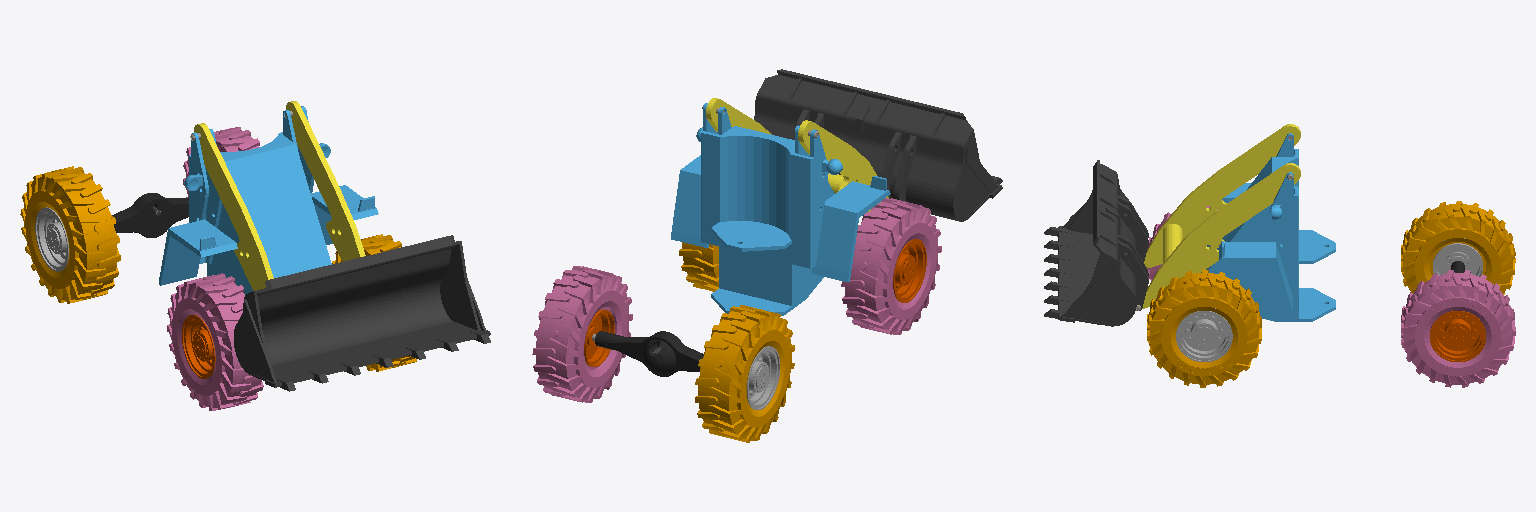
robot.urdf — robot_mov:
<?xml version="1.0"?>
<robot name="robot_mov">

    <gazebo>
        <plugin name="gazebo_ros_control" filename="libgazebo_ros_control.so">
            <robotNamespace>/robot_mov</robotNamespace>
            <robotSimType>gazebo_ros_control/DefaultRobotHWSim</robotSimType>
        </plugin>
    </gazebo>

    <link name="base_link">
        <visual>
            <origin xyz="0.0 0.0 0.0" rpy="0.0 0.0 0.0"/>
            <geometry>
                <box size="0.01 0.01 0.01"/>
            </geometry>
        </visual>
    </link>

    <joint name="base_joint" type="fixed">
        <origin xyz="0.0 0.5 0.0" rpy="0.0 0.0 0.0"/>
        <parent link="base_link"/>
        <child link="body_link"/>
    </joint>




<!--####Body####-->

    <link name="body_link">
         <inertial>
            <mass value="5.0"/>
            <inertia ixx="3.02083333333" ixy="0.0" ixz="0.0" iyy="3.02083333333" iyz="0.0" izz="5.20833333333"/>
        </inertial>
        <visual>
            <origin xyz="0.0 0.0 0.0" rpy="0.0 0.0 0.0"/>
            <geometry>
                <mesh filename="package://goldfields_world/models/Front_Loader/meshes/Body_yellow.dae" scale="40 40 40"/>
            </geometry>
        </visual>
        <collision>
            <origin xyz="0.0 0.0 0.0" rpy="0.0 0.0 0.0"/>
            <geometry>
                <box size="0.1 0.1 0.1"/>
            </geometry>
        </collision>
    </link>

<!--####Base_Wheels####-->

    <joint name="body_base_1_joint" type="fixed">
        <origin xyz="0.0 1.45 0.15" rpy="-1.5708 -3.14 0.0"/>
        <parent link="body_link"/>
        <child link="base_wheels_link_1"/>
    </joint>

    <link name="base_wheels_link_1" >
        <visual>
            <origin xyz="0.0 0.0 0.0" rpy="0.0 0.0 0.0"/>
            <geometry>
                <mesh filename="package://goldfields_world/models/Front_Loader/meshes/Support.dae" scale="40 40 40"/>
            </geometry>
        </visual>
    </link>

<!--####Tornillo_base_Wheel####-->

    <link name="Tornillo_base_wheel_1">
        <visual>
            <origin xyz="0.0 0.0 0" rpy="0.0 0.0 0.0"/>
            <geometry>
                <mesh filename="package://goldfields_world/models/Front_Loader/meshes/Tornillo_S.dae" scale="40 40 40"/>
            </geometry>
        </visual>
    </link>

    <joint name="base_Wheel_Tornillo_1" type="fixed">
        <origin xyz="0.0 0.1 -0.175" rpy="1.5708 0.0 0.0"/>
        <parent link="base_wheels_link_1"/>
        <child link="Tornillo_base_wheel_1"/>
    </joint>

<!--####Barra####-->

    <link name="Barra_1_link" >
         <inertial>
                <origin xyz="0.0 0.0 0.0" rpy="0.0 1.5708 0.0"/>
                <mass value="2"/>
                <inertia ixx="0.965" ixy="0.0" ixz="0.0" iyy="0.965" iyz="0.0" izz="0.01"/>
        </inertial>
        <visual>
            <origin xyz="-1.2 0.0 0" rpy="0.0 0.0 0.0"/>
            <geometry>
                <mesh filename="package://goldfields_world/models/Front_Loader/meshes/Barra.dae" scale="40 40 40"/>
            </geometry>
        </visual>
        <collision>
            <origin xyz="0.0 0.0 0.0" rpy="0.0 1.5708 0.0"/>
            <geometry>
            <cylinder radius="0.125" length="2.4"/>
            </geometry>
        </collision>
    </link>

    <joint name="base_Wheel_Barra_1" type="fixed">
        <origin xyz="0.0 0.0 0.0" rpy="1.5708 0.0 0.0"/>
        <parent link="base_wheels_link_1"/>
        <child link="Barra_1_link"/>
    </joint>

<!--####Ruedas de atras -Izquierda####-->

    <link name="left_back_wheel">
         <inertial>
                <origin xyz="0.0 0.0 0.0" rpy="0.0 1.5708 0.0"/>
                <mass value="0.5"/>
                <inertia ixx="0.0319791666667" ixy="0.0" ixz="0.0" iyy="0.0319791666667" iyz="0.0" izz="0.050625"/>
        </inertial>
        <visual>
            <origin xyz="0.0 0.0 0" rpy="0.0 0.0 0.0"/>
            <geometry>
                <mesh filename="package://goldfields_world/models/Front_Loader/meshes/Wheel_rin_yellow.dae" scale="40 40 40"/>
            </geometry>
        </visual>
        <collision>
            <origin xyz="0.0 0.0 0.0" rpy="0.0 1.5708 0.0"/>
            <geometry>
                <cylinder radius="0.425" length="0.5"/>
            </geometry>
        </collision>
    </link>

    <joint name="left_back_wheel_joint" type="continuous">
        <origin xyz="-1.25 0.0 0.0" rpy="0.0 3.1415922654 0.0"/>
        <parent link="Barra_1_link"/>
        <child link="left_back_wheel"/>
        <axis xyz="1.0 0.0 0.0"/>   
    </joint>

    <link name="WheelB_1_link" >
        <visual name="">
            <origin xyz="-0.05 0.0 0" rpy="0.0 0.0 0.0"/>
            <geometry>
                <mesh filename="package://goldfields_world/models/Front_Loader/meshes/Wheel_black.dae" scale="40 40 40"/>
            </geometry>
        </visual>
        <collision>
            <origin xyz="-0.05 0.0 0.0" rpy="0.0 1.5708 0.0"/>
            <geometry>
                <cylinder radius="0.85" length="0.5"/>
            </geometry>
        </collision>
    </link>

    <joint name="wheel_base_rin_B1" type="fixed">
        <origin xyz="0.0 0.0 0.0" rpy="0.0 0.0 0.0"/>
        <parent link="left_back_wheel"/>
        <child link="WheelB_1_link"/>
        <limit effort="100" velocity="100"/>
        <dynamics damping="0.0" friction="0.0"/>   
    </joint>

<!--####Ruedas de atras -Derecha####-->

<link name="right_back_wheel">
         <inertial>
                <origin xyz="0.0 0.0 0.0" rpy="0.0 1.5708 0.0"/>
                <mass value="0.5"/>
                <inertia ixx="0.0319791666667" ixy="0.0" ixz="0.0" iyy="0.0319791666667" iyz="0.0" izz="0.050625"/>
        </inertial>
        <visual>
            <origin xyz="0.0 0.0 0" rpy="0.0 0.0 3.1415922654"/>
            <geometry>
                <mesh filename="package://goldfields_world/models/Front_Loader/meshes/Wheel_rin_yellow.dae" scale="40 40 40"/>
            </geometry>
        </visual>
        <collision>
            <origin xyz="0.0 0.0 0.0" rpy="0.0 1.5708 0.0"/>
            <geometry>
                <cylinder radius="0.425" length="0.5"/>
            </geometry>
        </collision>
    </link>

    <joint name="right_back_wheel_joint" type="continuous">
        <origin xyz="1.25 0.0 0.0" rpy="0.0 0.0 3.141592"/>
        <parent link="Barra_1_link"/>
        <child link="right_back_wheel"/>
        <axis xyz="1.0 0.0 0.0"/>   
    </joint>

    <link name="WheelA_1_link" >
        <visual>
            <origin xyz="0.05 0.0 0" rpy="0.0 0.0 0.0"/>
            <geometry>
                <mesh filename="package://goldfields_world/models/Front_Loader/meshes/Wheel_black.dae" scale="40 40 40"/>
            </geometry>
        </visual>
        <collision>
            <origin xyz="0.05 0.0 0.0" rpy="0.0 1.5708 0.0"/>
            <geometry>
                <cylinder radius="0.85" length="0.5"/>
            </geometry>
        </collision>
    </link>

    <joint name="wheel_base_rin_A1" type="fixed">
        <origin xyz="0.0 0.0 0.0" rpy="0.0 0.0 0.0"/>
        <parent link="right_back_wheel"/>
        <child link="WheelA_1_link"/>
        <limit effort="100" velocity="100"/>
        <dynamics damping="0.0" friction="0.0"/>   
    </joint>

<!--BASE DEL CARGADOR FRONTAL-->

    <link name="Loader_base">
        <inertial>
            <origin xyz="0.0 0.0 0.0" rpy="0.0 0.0 0.0"/>
            <mass value="0.2"/>
            <inertia ixx="13.3333333333" ixy="0.0" ixz="0.0" iyy="13.3333333333" iyz="0.0" izz="13.3333333333"/>
        </inertial>
        <visual>
            <origin xyz="0.0 0.0 0.0" rpy="0.0 0.0 0.0"/>
            <geometry>
                <mesh filename="package://goldfields_world/models/Front_Loader/meshes/Helmet.dae" scale="40 40 40"/>
            </geometry>
        </visual>
        <collision>
            <origin xyz="0.0 0.0 0.0" rpy="0.0 0.0 0.0"/>
            <geometry>
                <box size="0.1 0.1 0.1"/>
            </geometry>
        </collision>
    </link>

    <joint name="helmet_joint" type="fixed">
        <origin xyz="0.0 -2.5 0.1" rpy="0.0 0.0 0.0"/>
        <parent link="body_link"/>
        <child link="Loader_base"/>
        <axis xyz="0.0 0.0 0.0"/>
    </joint>

<!---RUEDAS FRONTALES DEL CARGADOR-->

    <link name="base_wheels_link_2" >
        <visual>
            <origin xyz="0.0 0.0 0.0" rpy="0.0 0.0 0.0"/>
            <geometry>
                <mesh filename="package://goldfields_world/models/Front_Loader/meshes/Support.dae" scale="40 40 40"/>
            </geometry>
        </visual>
    </link>

    <joint name="body_base_2_joint" type="fixed">
        <origin xyz="0.0 -2.3 0.15" rpy="1.5708 -3.14 0.0"/>
        <parent link="body_link"/>
        <child link="base_wheels_link_2"/>
        <axis xyz="0.0 0.0 0.0"/>
    </joint>

    <link name="Tornillo_base_wheel_2" >
        <visual>
            <origin xyz="0.0 0.0 0" rpy="0.0 0.0 0.0"/>
            <geometry>
                <mesh filename="package://goldfields_world/models/Front_Loader/meshes/Tornillo_S.dae" scale="40 40 40"/>
            </geometry>
        </visual>
    </link>


    <joint name="base_Wheel_Tornillo_2" type="fixed">
        <origin xyz="0.0 0.1 -0.175" rpy="1.5708 0.0 0.0"/>
        <parent link="base_wheels_link_2"/>
        <child link="Tornillo_base_wheel_2"/>
    </joint>

    <link name="Barra_2_link" >
         <inertial>
                <origin xyz="0.0 0.0 0.0" rpy="0.0 1.5708 0.0"/>
                <mass value="2"/>
                <inertia ixx="0.965" ixy="0.0" ixz="0.0" iyy="0.965" iyz="0.0" izz="0.01"/>
        </inertial>
        <visual>
            <origin xyz="-1.2 0.0 0" rpy="0.0 0.0 0.0"/>
            <geometry>
                <mesh filename="package://goldfields_world/models/Front_Loader/meshes/Barra.dae" scale="40 40 40"/>
            </geometry>
        </visual>
        <collision>
            <origin xyz="0.0 0.0 0.0" rpy="0.0 1.5708 0.0"/>
            <geometry>
            <cylinder radius="0.125" length="2.4"/>
            </geometry>
        </collision>
    </link>

    <joint name="base_Wheel_Barra_2" type="fixed">
        <origin xyz="0.0 0.0 0.0" rpy="1.5708 0.0 0.0"/>
        <parent link="base_wheels_link_2"/>
        <child link="Barra_2_link"/>
    </joint>

<!--####Ruedas de adelante -Derecha####-->

    <link name="right_front_wheel">
         <inertial>
                <origin xyz="0.0 0.0 0.0" rpy="0.0 1.5708 0.0"/>
                <mass value="0.5"/>
                <inertia ixx="0.0319791666667" ixy="0.0" ixz="0.0" iyy="0.0319791666667" iyz="0.0" izz="0.050625"/>
        </inertial>
        <visual>
            <origin xyz="0.0 0.0 0" rpy="0.0 0.0 3.1415922654"/>
            <geometry>
                <mesh filename="package://goldfields_world/models/Front_Loader/meshes/Wheel_rin_yellow.dae" scale="40 40 40"/>
            </geometry>
        </visual>
        <collision>
            <origin xyz="0.0 0.0 0.0" rpy="0.0 1.5708 0.0"/>
            <geometry>
                <cylinder radius="0.425" length="0.5"/>
            </geometry>
        </collision>
    </link>

    <joint name="right_front_wheel_joint" type="continuous">
        <origin xyz="1.25 0.0 0.0" rpy="0.0 0.0 3.1415922654"/>
        <parent link="Barra_2_link"/>
        <child link="right_front_wheel"/>
        <axis xyz="1.0 0.0 0.0"/>   
    </joint>

    <link name="WheelA_2_link" >
        <visual name="">
            <origin xyz="0.05 0.0 0" rpy="0.0 0.0 0.0"/>
            <geometry>
                <mesh filename="package://goldfields_world/models/Front_Loader/meshes/Wheel_black.dae" scale="40 40 40"/>
            </geometry>
        </visual>
        <collision>
            <origin xyz="0.05 0.0 0.0" rpy="0.0 1.5708 0.0"/>
            <geometry>
                <cylinder radius="0.85" length="0.5"/>
            </geometry>
        </collision>
    </link>

    <joint name="wheel_base_rin_A2" type="fixed">
        <origin xyz="0.0 0.0 0.0" rpy="0.0 0.0 0.0"/>
        <parent link="right_front_wheel"/>
        <child link="WheelA_2_link"/>
        <limit effort="100" velocity="100"/>
        <dynamics damping="0.0" friction="0.0"/>   
    </joint>

<!--####Ruedas de adelante -Izquierda####-->

    <link name="left_front_wheel">
         <inertial>
                <origin xyz="0.0 0.0 0.0" rpy="0.0 1.5708 0.0"/>
                <mass value="0.5"/>
                <inertia ixx="0.0319791666667" ixy="0.0" ixz="0.0" iyy="0.0319791666667" iyz="0.0" izz="0.050625"/>
        </inertial>
        <visual>
            <origin xyz="0.0 0.0 0" rpy="0.0 0.0 0.0"/>
            <geometry>
                <mesh filename="package://goldfields_world/models/Front_Loader/meshes/Wheel_rin_yellow.dae" scale="40 40 40"/>
            </geometry>
        </visual>
        <collision>
            <origin xyz="0.0 0.0 0.0" rpy="0.0 1.5708 0.0"/>
            <geometry>
                <cylinder radius="0.425" length="0.5"/>
            </geometry>
        </collision>
    </link>

    <joint name="left_front_wheel_joint" type="continuous">
        <origin xyz="-1.25 0.0 0.0" rpy="0.0 3.1415922654 0.0"/>
        <parent link="Barra_2_link"/>
        <child link="left_front_wheel"/>
        <axis xyz="1.0 0.0 0.0"/>   
    </joint>

    <link name="WheelB_2_link" >
        <visual name="">
            <origin xyz="-0.05 0.0 0" rpy="0.0 0.0 0.0"/>
            <geometry>
                <mesh filename="package://goldfields_world/models/Front_Loader/meshes/Wheel_black.dae" scale="40 40 40"/>
            </geometry>
        </visual>
        <collision>
            <origin xyz="-0.05 0.0 0.0" rpy="0.0 1.5708 0.0"/>
            <geometry>
                <cylinder radius="0.85" length="0.5"/>
            </geometry>
        </collision>
    </link>

    <joint name="wheel_base_rin_B2" type="fixed">
        <origin xyz="0.0 0.0 0.0" rpy="0.0 0.0 0.0"/>
        <parent link="left_front_wheel"/>
        <child link="WheelB_2_link"/>
        <limit effort="100" velocity="100"/>
        <dynamics damping="0.0" friction="0.0"/>   
    </joint>

    <!--SOPORTE DEL CARGADOR-->
    
    <link name="Tornillo_Little_A1" >
        <visual name="">
            <origin xyz="0.0 0.0 0.0" rpy="0.0 0.0 0.0"/>
            <geometry>
                <mesh filename="package://goldfields_world/models/Front_Loader/meshes/Tornillo_Little.dae" scale="40 30 40"/>
            </geometry>
        </visual>
    </link>

    <joint name="tornilloA1_supp_joint" type="fixed">
        <origin xyz="-0.55 1.475 2.34" rpy="0.0 01.0 1.5708"/>
        <parent link="Loader_base"/>
        <child link="Tornillo_Little_A1"/>
    </joint>

    <link name="Tornillo_Little_A2" >
        <visual>
            <origin xyz="0.0 0.0 0.0" rpy="0.0 0.0 0.0"/>
            <geometry>
                <mesh filename="package://goldfields_world/models/Front_Loader/meshes/Tornillo_Little.dae" scale="40 30 40"/>
            </geometry>
        </visual>
    </link>

    <joint name="tornilloA2_supp_joint" type="fixed">
        <origin xyz="0.55 1.475 2.34" rpy="0.0 1.0 -1.5708"/>
        <parent link="Loader_base"/>
        <child link="Tornillo_Little_A2"/>
    </joint>

    <link name="pala_support_link" >
        <inertial>
            <origin xyz="0.0 1.5 0.0" rpy="0.0 0.0 0.0"/>
            <mass value="5.0"/>
            <inertia ixx="1.29270833333" ixy="0.0" ixz="0.0" iyy="0.667708333333" iyz="0.0" izz="1.92708333333"/>
        </inertial>
        <visual>
            <origin xyz="0.0 0.0 0.0" rpy="0.0 0.0 0.0"/>
            <geometry>
                <mesh filename="package://goldfields_world/models/Front_Loader/meshes/Support_Pala_Yellow.dae" scale="40 40 40"/>
            </geometry>
        </visual>
        <collision>
            <origin xyz="0.0 1.5 0.0" rpy="0.0 0.0 0.0"/>
            <geometry>
                <box size="1.25 1.75 0.2"/>
            </geometry>
        </collision>
    </link>

    <joint name="base_support_pala" type="revolute">
        <origin xyz="0.0 1.475 2.34" rpy="2.5 3.1415922654 0.0"/>
        <parent link="Loader_base"/>
        <child link="pala_support_link"/>
        <axis xyz="1.0 0.0 0.0"/>
        <limit lower="0.0" upper="1.5" effort="100.0" velocity="100"/>
    </joint>


    <link name="Tornillo_Little_B1" >
        <visual name="">
            <origin xyz="0.0 0.0 0.0" rpy="0.0 0.0 0.0"/>
            <geometry>
                <mesh filename="package://goldfields_world/models/Front_Loader/meshes/Tornillo_Little.dae" scale="40 30 40"/>
            </geometry>
        </visual>
    </link>

    <joint name="tornilloB1_supp_joint" type="fixed">
        <origin xyz="0.57 3.075 -0.35" rpy="0.0 0.0 -1.5708"/>
        <parent link="pala_support_link"/>
        <child link="Tornillo_Little_B1"/>
    </joint>

    <link name="Tornillo_Little_B2" >
        <visual name="">
            <origin xyz="0.0 0.0 0.0" rpy="0.0 0.0 0.0"/>
            <geometry>
                <mesh filename="package://goldfields_world/models/Front_Loader/meshes/Tornillo_Little.dae" scale="40 30 40"/>
            </geometry>
        </visual>
    </link>

    <joint name="tornilloB2_supp_joint" type="fixed">
        <origin xyz="-0.57 3.075 -0.35" rpy="0.0 0.0 1.5708"/>
        <parent link="pala_support_link"/>
        <child link="Tornillo_Little_B2"/>
    </joint>


    <link name="pala_link" >
        <inertial>
            <origin xyz="0.0 0.0 0.0" rpy="0.0 0.0 0.0"/>
            <mass value="0.1"/>
            <inertia ixx="0.0008125" ixy="0.0" ixz="0.0" iyy="0.0008125" iyz="0.0" izz="0.000125"/>
        </inertial>
        <visual>
            <origin xyz="0.0 0.05 1.11" rpy="0.0 0.0 3.1415922654"/>
            <geometry>
                <mesh filename="package://goldfields_world/models/Front_Loader/meshes/Pala.dae" scale="40 40 40"/>
            </geometry>
        </visual>
        <!--<collision>
            <origin xyz="0.0 0.0 1.25" rpy="0.0 0.0 0.0"/>
            <geometry>
                <box size="3.0 0.2 0.2"/>
            </geometry>
        </collision>-->
    </link>

    <joint name="pala_base_joint" type="revolute">
        <origin xyz="0.0 3.075 -0.35" rpy="-0.75 0.0 0.0"/>
        <parent link="pala_support_link"/>
        <child link="pala_link"/>
        <axis xyz="1.0 0.0 0.0"/>
        <limit lower="-2.58" upper="0.6" effort="100.0" velocity="100"/>
    </joint>







    <gazebo reference="body_link">
        <turnGravityOff>false</turnGravityOff>
    </gazebo>

    <gazebo reference="WheelB_1_link">
        <mu1 value="400.0"/>
        <mu2 value="200.0"/>
        <kp value="10000000.0"/>
        <kd value="1000.0"/>
        <material>Gazebo/Black</material>
    </gazebo>

    <gazebo reference="WheelB_2_link">
        <mu1 value="400.0"/>
        <mu2 value="200.0"/>
        <kp value="10000000.0"/>
        <kd value="1000.0"/>
        <material>Gazebo/Black</material>
    </gazebo>

    <gazebo reference="WheelA_1_link">
        <mu1 value="400.0"/>
        <mu2 value="200.0"/>
        <kp value="10000000.0"/>
        <kd value="1000.0"/>
        <material>Gazebo/Black</material>
    </gazebo>

    <gazebo reference="WheelA_2_link">
        <mu1 value="400.0"/>
        <mu2 value="200.0"/>
        <kp value="10000000.0"/>
        <kd value="1000.0"/>
        <material>Gazebo/Black</material>
    </gazebo>



    <transmission name="left_back_wheel_trans">
        <type>transmission_interface/SimpleTransmission</type>
        <actuator name="left_back_wheel_motor">
        <mechanicalReduction>1</mechanicalReduction>
        <hardwareInterface>VelocityJointInterface</hardwareInterface>
        </actuator>
        <joint name="left_back_wheel_joint">
            <hardwareInterface>hardware_interface/VelocityJointInterface</hardwareInterface>
        </joint>
    </transmission>

    <transmission name="right_front_wheel_trans">
        <type>transmission_interface/SimpleTransmission</type>
        <actuator name="right_front_wheel_motor">
            <mechanicalReduction>1</mechanicalReduction>
            <hardwareInterface>VelocityJointInterface</hardwareInterface>
        </actuator>
        <joint name="right_front_wheel_joint">
            <hardwareInterface>hardware_interface/VelocityJointInterface</hardwareInterface>
        </joint>
    </transmission>

    <transmission name="right_back_wheel_trans">
        <type>transmission_interface/SimpleTransmission</type>
        <actuator name="right_back_wheel_motor">
        <hardwareInterface>VelocityJointInterface</hardwareInterface>
        <mechanicalReduction>1</mechanicalReduction>
        </actuator>
        <joint name="right_back_wheel_joint">
            <hardwareInterface>hardware_interface/VelocityJointInterface</hardwareInterface>
        </joint>
    </transmission>

    <transmission name="left_front_wheel_trans">
        <type>transmission_interface/SimpleTransmission</type>
        <actuator name="left_front_wheel_motor">
            <hardwareInterface>VelocityJointInterface</hardwareInterface>
            <mechanicalReduction>1</mechanicalReduction>
        </actuator>
        <joint name="left_front_wheel_joint">
        <hardwareInterface>hardware_interface/VelocityJointInterface</hardwareInterface>
        </joint>
    </transmission>

    <transmission name="arm_position_controlller">
        <type>transmission_interface/SimpleTransmission</type>
        <actuator name="supp_motor">
            <hardwareInterface>hardware_interface/EffortJointInterface</hardwareInterface>
            <mechanicalReduction>1</mechanicalReduction>
        </actuator>
        <joint name="base_support_pala">
        <hardwareInterface>hardware_interface/EffortJointInterface</hardwareInterface>
        </joint>
    </transmission>

    <transmission name="pala_position_controller">
        <type>transmission_interface/SimpleTransmission</type>
        <actuator name="pala_motor">
            <hardwareInterface>hardware_interface/EffortJointInterface</hardwareInterface>
            <mechanicalReduction>1</mechanicalReduction>
        </actuator>
        <joint name="pala_base_joint">
        <hardwareInterface>hardware_interface/EffortJointInterface</hardwareInterface>
        </joint>
    </transmission>




   





    
</robot>

--- Facts derived from the render (not from the file) ---
The picture shows the robot from 3 angles, left to right: view 1: azimuth 30°, elevation 25°; view 2: azimuth 150°, elevation 25°; view 3: azimuth 270°, elevation 25°; orthographic projection.
Model robot_mov with 23 links and 22 joints (2 revolute, 4 continuous, 16 fixed), rooted at base_link, posed every joint at zero.
Links seen in each view (by area): view 1: pala_link, Loader_base, WheelA_1_link, WheelA_2_link, pala_support_link, base_wheels_link_1, right_back_wheel, right_front_wheel, WheelB_1_link, WheelB_2_link; view 2: Loader_base, pala_link, WheelB_1_link, WheelA_1_link, WheelA_2_link, pala_support_link, base_wheels_link_1, right_front_wheel, right_back_wheel, WheelB_2_link, left_back_wheel; view 3: pala_link, Loader_base, pala_support_link, WheelB_1_link, WheelB_2_link, WheelA_1_link, left_front_wheel, left_back_wheel, right_back_wheel.
Link boxes in pixels (<box>): pala_link: <box>234,235,490,391</box>; Loader_base: <box>159,106,378,294</box>; WheelA_1_link: <box>20,166,120,303</box>; WheelA_2_link: <box>167,273,263,410</box>; pala_support_link: <box>194,101,365,290</box>; base_wheels_link_1: <box>112,193,188,237</box>; right_back_wheel: <box>35,207,68,271</box>; right_front_wheel: <box>182,315,215,378</box>; WheelB_1_link: <box>183,127,259,197</box>; WheelB_2_link: <box>332,234,416,371</box>; Loader_base: <box>671,103,890,315</box>; pala_link: <box>754,69,1002,221</box>; WheelB_1_link: <box>532,266,632,402</box>; WheelA_1_link: <box>695,305,794,442</box>; WheelA_2_link: <box>841,198,941,334</box>; pala_support_link: <box>706,98,888,211</box>; base_wheels_link_1: <box>595,331,703,376</box>; right_front_wheel: <box>893,239,926,302</box>; right_back_wheel: <box>747,346,779,409</box>; WheelB_2_link: <box>679,242,718,291</box>; left_back_wheel: <box>584,309,614,366</box>; pala_link: <box>1044,160,1148,326</box>; Loader_base: <box>1201,133,1335,321</box>; pala_support_link: <box>1142,124,1300,308</box>; WheelB_1_link: <box>1401,270,1515,387</box>; WheelB_2_link: <box>1147,269,1261,387</box>; WheelA_1_link: <box>1401,201,1515,294</box>; left_front_wheel: <box>1176,308,1232,361</box>; left_back_wheel: <box>1430,311,1485,361</box>; right_back_wheel: <box>1433,238,1482,276</box>.
Bounding box of the posed robot: 3.19 × 6.96 × 3.29 m (x, y, z).
Meshes: 10 distinct files referenced, 21 mesh visuals loaded (9 Collada DAE); not drawn: 1 (reference not matched to a file when rendering).